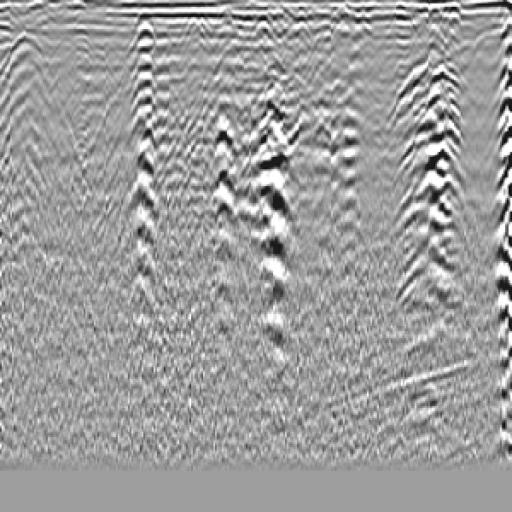metalic: (279, 68, 353, 253)
